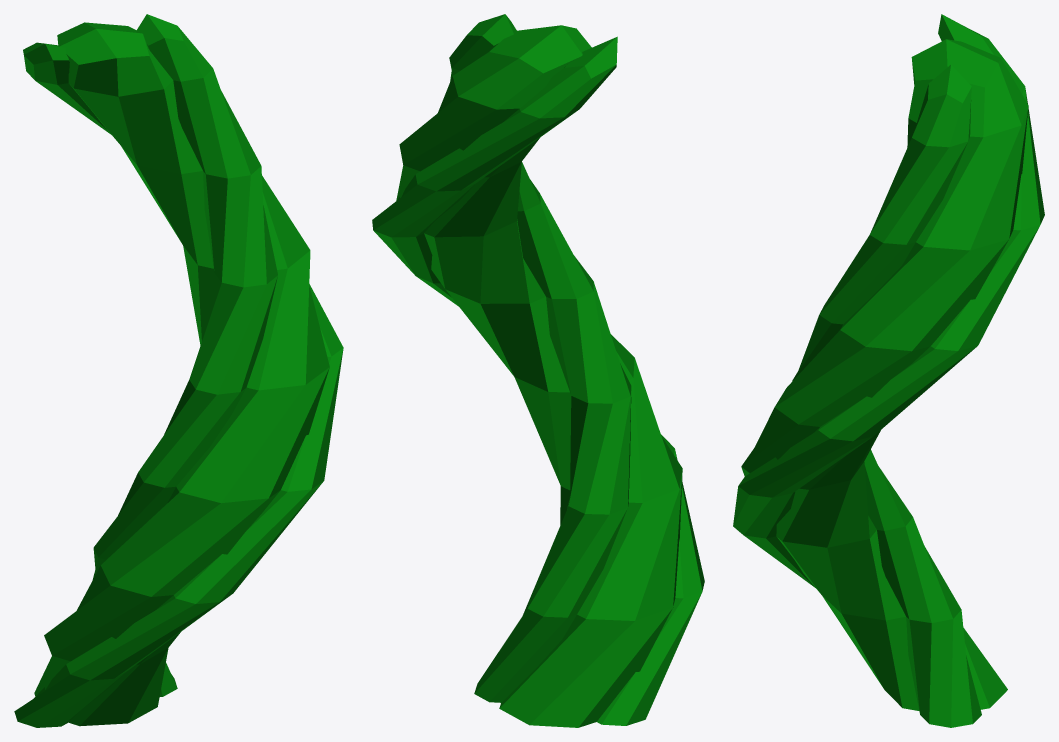
Rendered from beanstalk.gltf.
3 renders of one model, left to right at view 1: azimuth 30°, elevation 25°; view 2: azimuth 150°, elevation 25°; view 3: azimuth 270°, elevation 25°, orthographic. The views are drawn at different scales.
Parts seen in each view (by area): view 1: Cube.002; view 2: Cube.002; view 3: Cube.002.
Part boxes in pixels (x1=…): Cube.002: x1=14, y1=14, x2=343, y2=727; Cube.002: x1=372, y1=14, x2=704, y2=727; Cube.002: x1=733, y1=14, x2=1044, y2=727.
Size of the model in its own units: 5.18 by 12.04 by 5.23.
